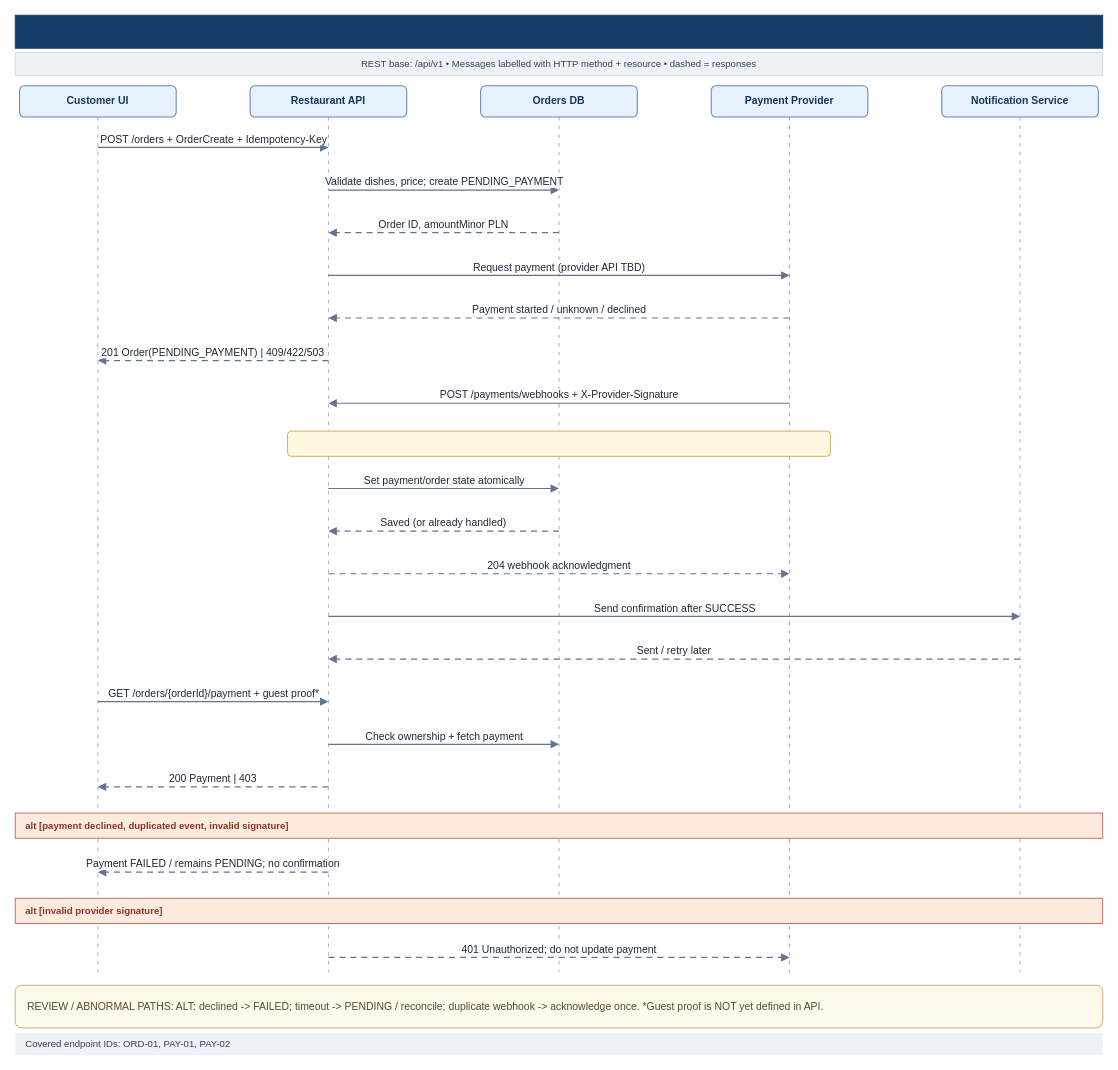
This 1118x1070 diagram has some shape labels left out. Here are the shapes that lost their labels. From the top down, the centre of each, then its label:
pixel 558 31: 04 Order and payment - Restaurant Management System
pixel 558 443: Internal: Verify signature and dedupe eventId
